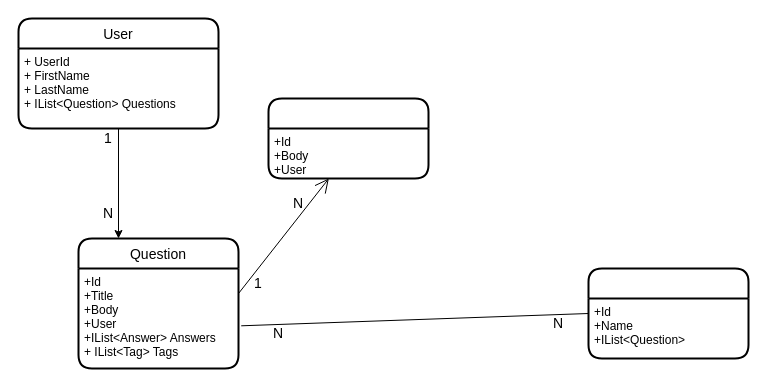
Some shapes in this 766 by 386 pixel diagram are drawn without their labels. Each missing label, with the box of its shape:
Answer: (267, 97, 429, 179)
Tag: (587, 267, 749, 359)
